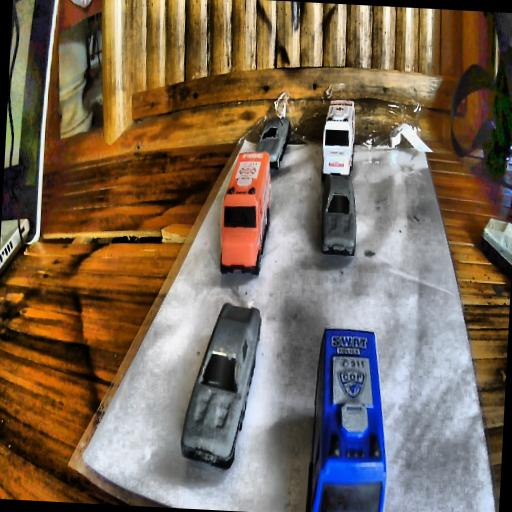ambulance: (320, 98, 358, 181)
fire_truck: (218, 146, 274, 276)
normal_car: (319, 170, 359, 258), (254, 115, 290, 172)
police car: (306, 326, 393, 512), (180, 302, 262, 470)
